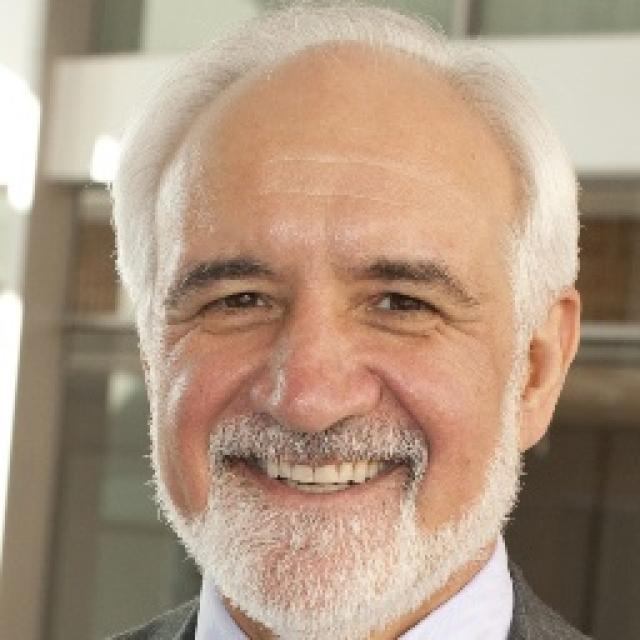earlobe: (515, 395, 550, 453)
eye: (201, 292, 278, 314), (367, 292, 432, 316)
nose: (250, 404, 376, 452)
wholeear: (517, 286, 581, 454)
